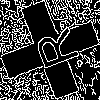R: (25, 25, 81, 75)
